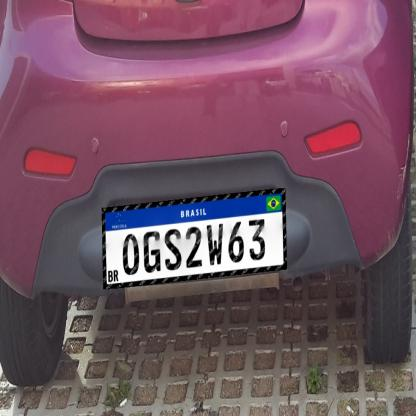PlacaM: (102, 188, 287, 289)
